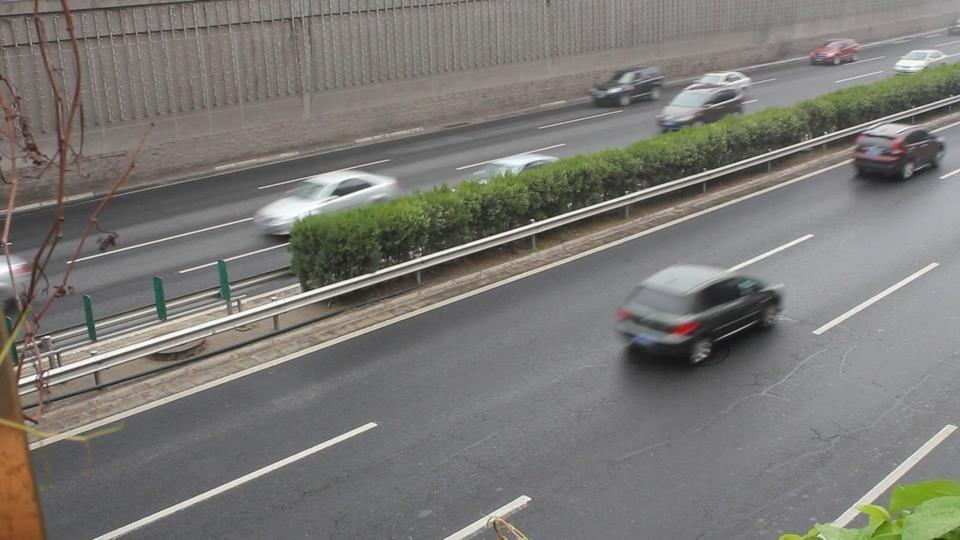car: (612, 262, 785, 365), (252, 168, 400, 238), (851, 124, 946, 181), (657, 78, 750, 133), (455, 148, 565, 184), (590, 66, 665, 108), (690, 70, 752, 97), (808, 37, 861, 66), (893, 49, 951, 74)
